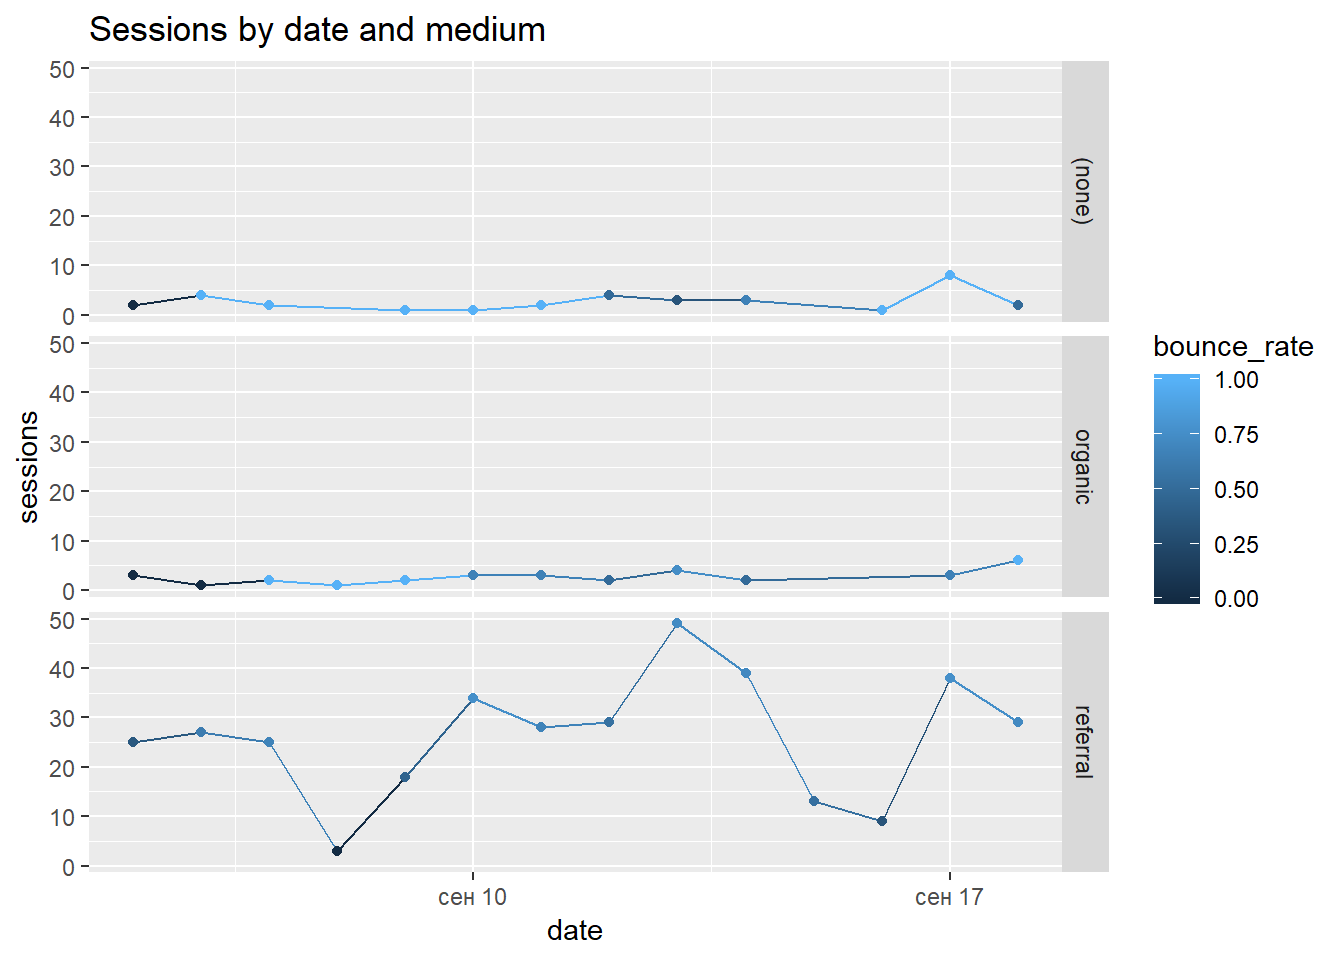

This screenshot's page, from the dashboard's own definition file:
{"tool":"powerbi","page":{"name":"Страница 1","canvas":[1280,720],"ordinal":0},"visuals":[{"type":"scriptVisual","fields":{"Values":["my_data.Id","my_data.user_id","Sum(my_data.Value)"]},"box":[9.7,19.3,945.3,367.6],"z":1}]}

Visuals, with their boxes on the page's 1280x720 design canvas (x1, y1, x2, y2). These are canvas units, not pixel positions in the 1344x960 screenshot, which may show the page scaled, cropped or inside an application window:
scriptVisual - my_data.Id x my_data.user_id: (x1=10, y1=19, x2=955, y2=387)
